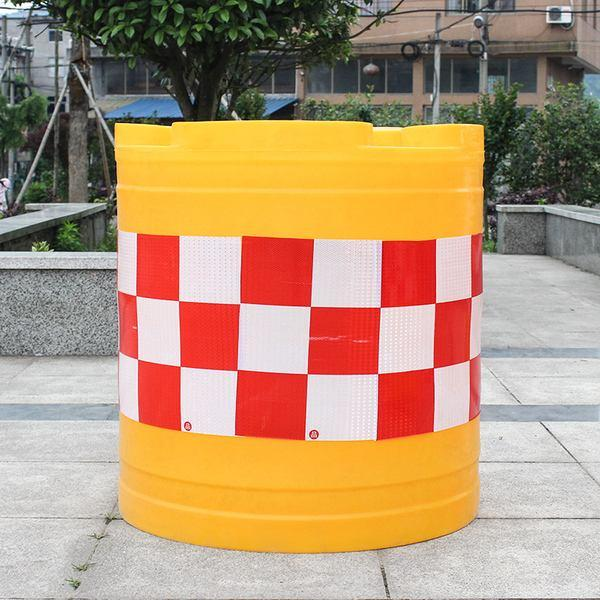sign: (89, 102, 497, 553)
